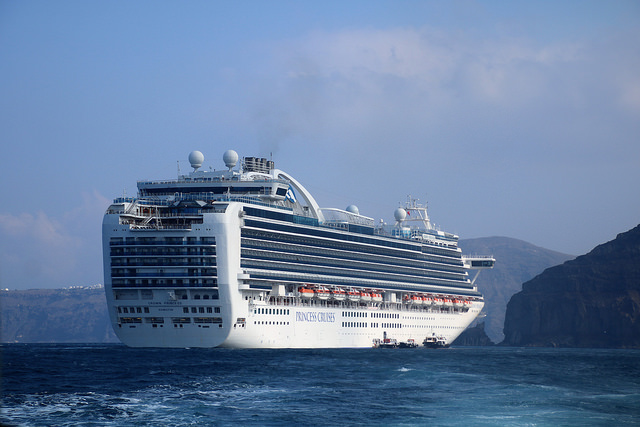cruise_ship: (100, 147, 497, 349)
